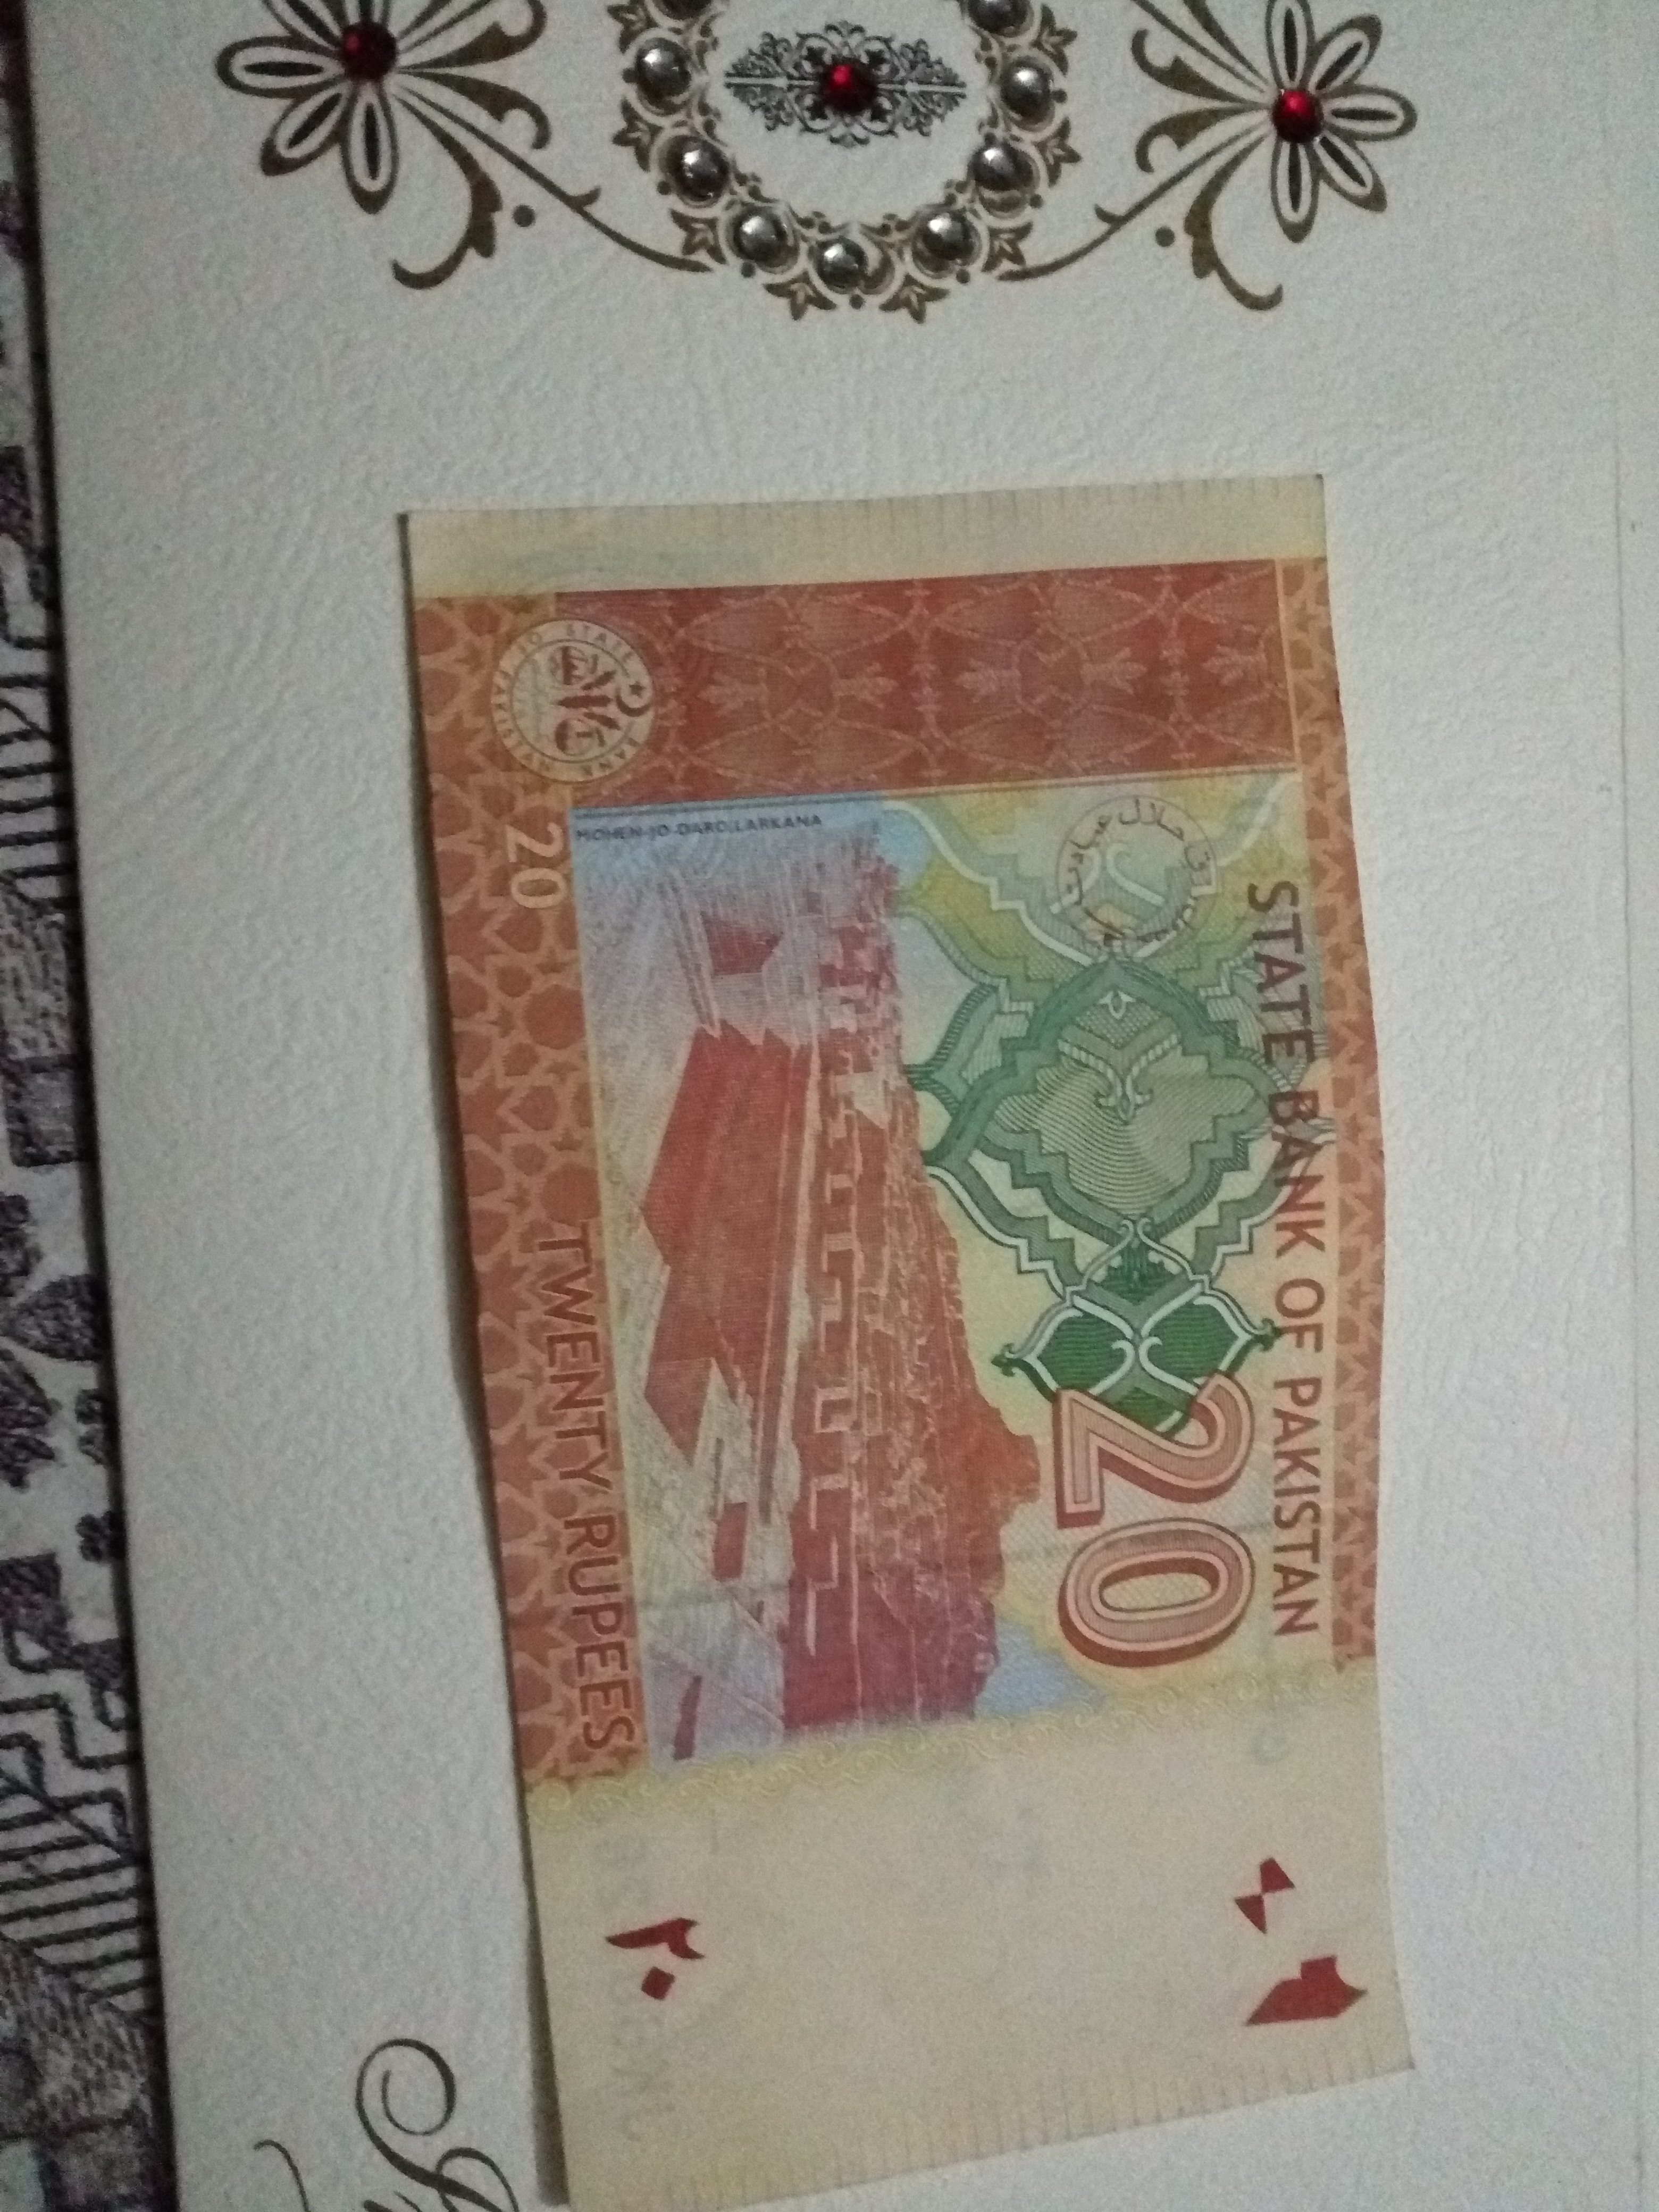20 rupee: (317, 451, 1540, 2184)
